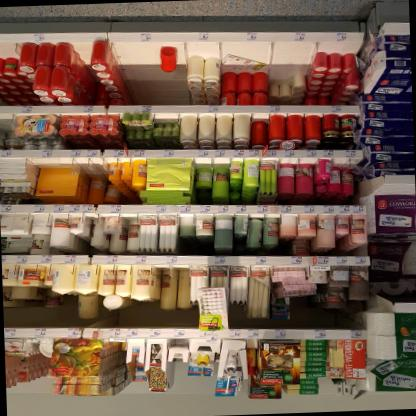empty_space: (110, 42, 161, 106)
